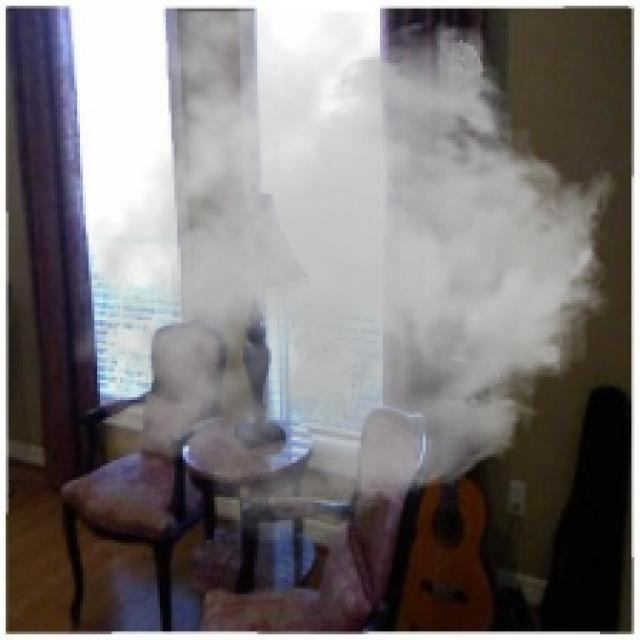smoke: (69, 11, 620, 546)
